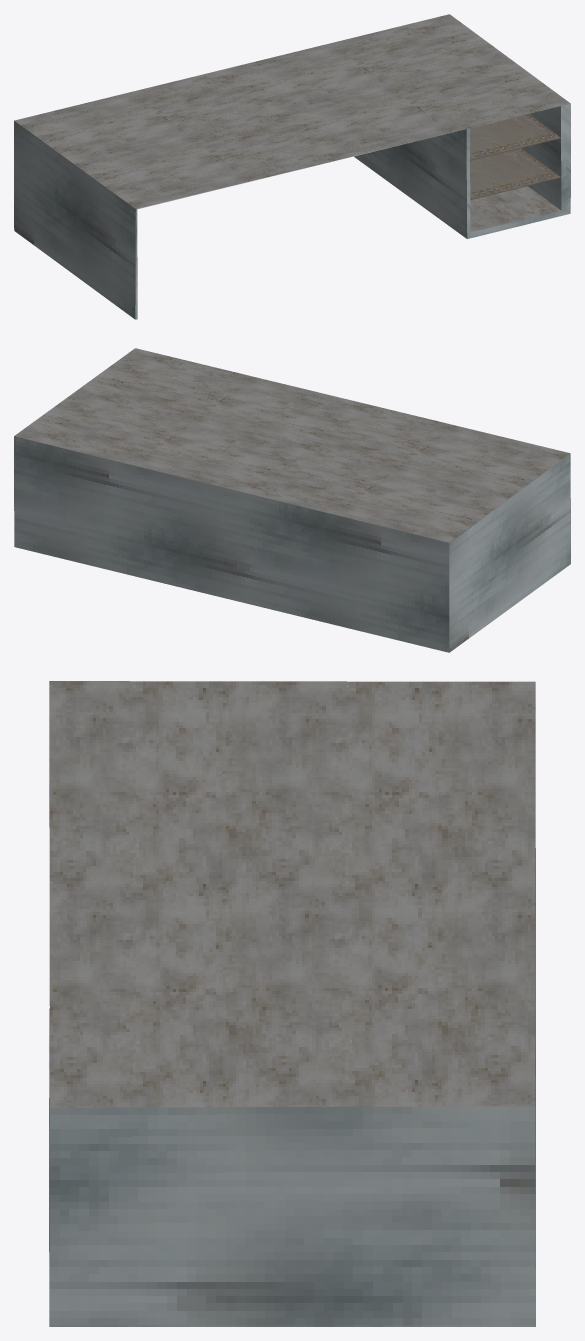
The model's file is desk.fbx.
The picture shows the model from 3 angles, top to bottom: view 1: azimuth 30°, elevation 25°; view 2: azimuth 150°, elevation 25°; view 3: azimuth 270°, elevation 25°; orthographic projection. The views are drawn at different scales.
Parts seen in each view (by area): view 1: Cube, Cube.001; view 2: Cube; view 3: Cube.
Part boxes in pixels (box(x1,y1,x2,y2)): Cube: box(14, 14, 570, 319); Cube.001: box(469, 114, 560, 199); Cube: box(14, 348, 570, 652); Cube: box(49, 681, 535, 1326).
Size of the model in its own units: 574 by 140 by 278.
Materials: 4 (4 with a texture image).
